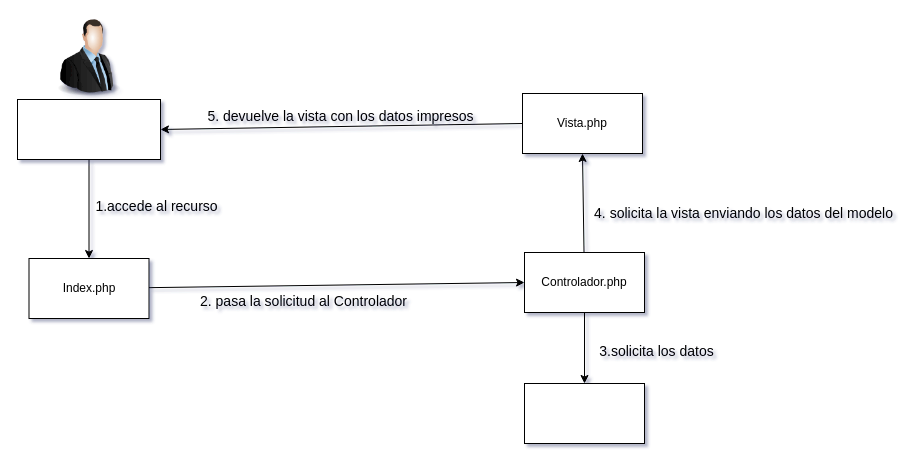
Some shapes in this 916 by 467 pixel diagram are drawn without their labels. The box of each missing label's shape, as (x1, y1, x2, y2) in pixels:
Modelo.php: (524, 382, 644, 444)
paises del mundo.php: (16, 98, 160, 160)
